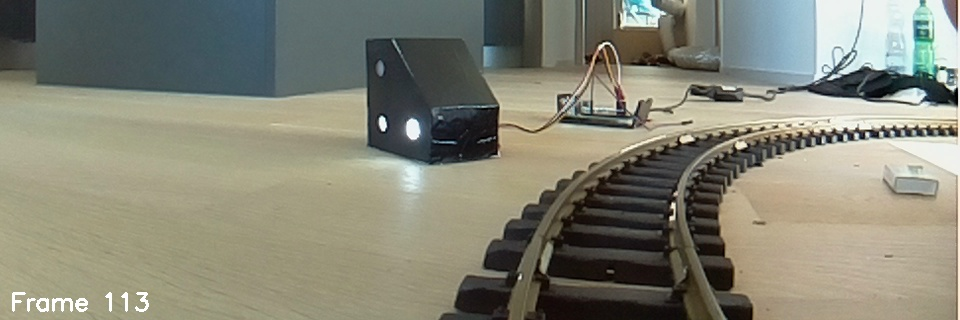Halt: (364, 35, 499, 165)
